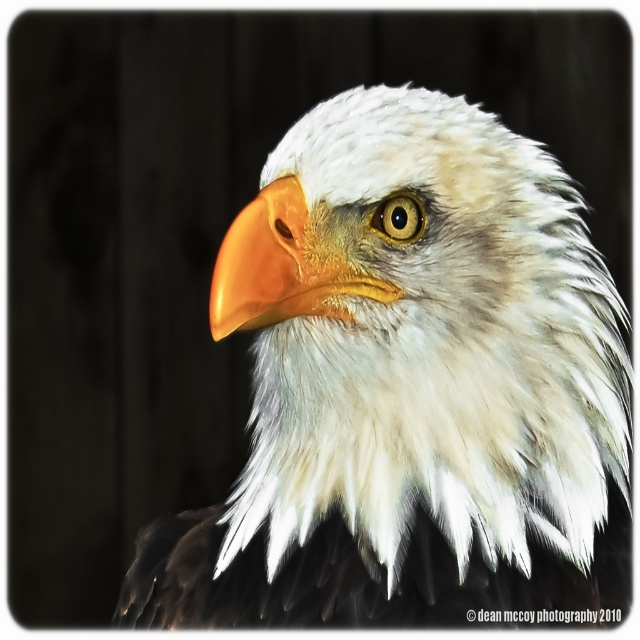Eagle: (112, 82, 639, 631)
